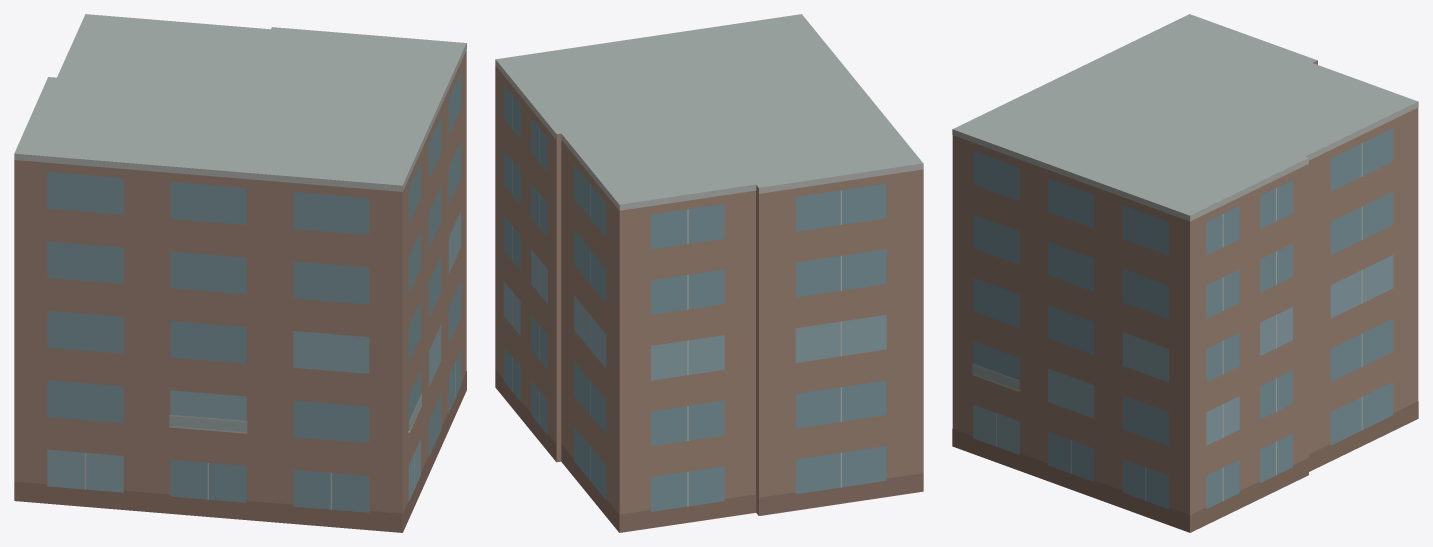
File: survey-upis-33027668.glb
3 views of the same model, side by side, from view 1: azimuth 30°, elevation 25°; view 2: azimuth 150°, elevation 25°; view 3: azimuth 270°, elevation 25° (orthographic). The views are drawn at different scales.
Visible parts, largest first — view 1: survey-upis-33027668.tmp; view 2: survey-upis-33027668.tmp; view 3: survey-upis-33027668.tmp.
Boxes of the visible parts, box(x1,y1,x2,y2) form: survey-upis-33027668.tmp: box(14, 14, 466, 532); survey-upis-33027668.tmp: box(495, 14, 923, 532); survey-upis-33027668.tmp: box(952, 14, 1418, 532).
Size of the model in its own units: 18.29 by 13.4 by 17.85.
